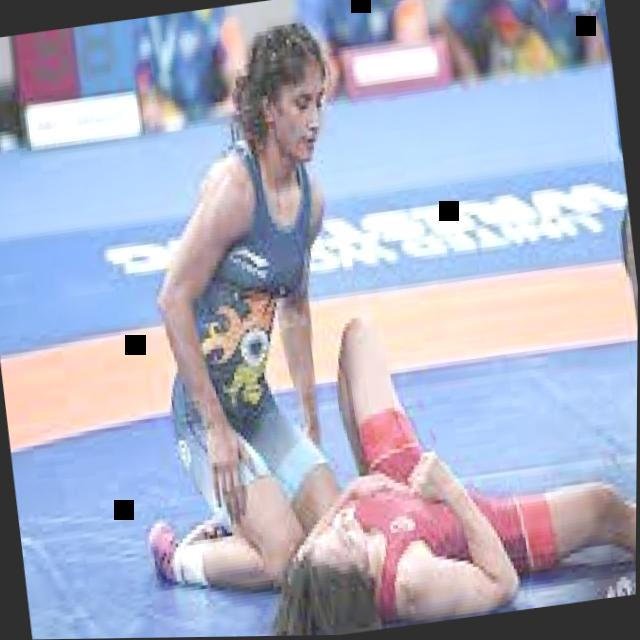Fall-Detected: (227, 262, 638, 637)
